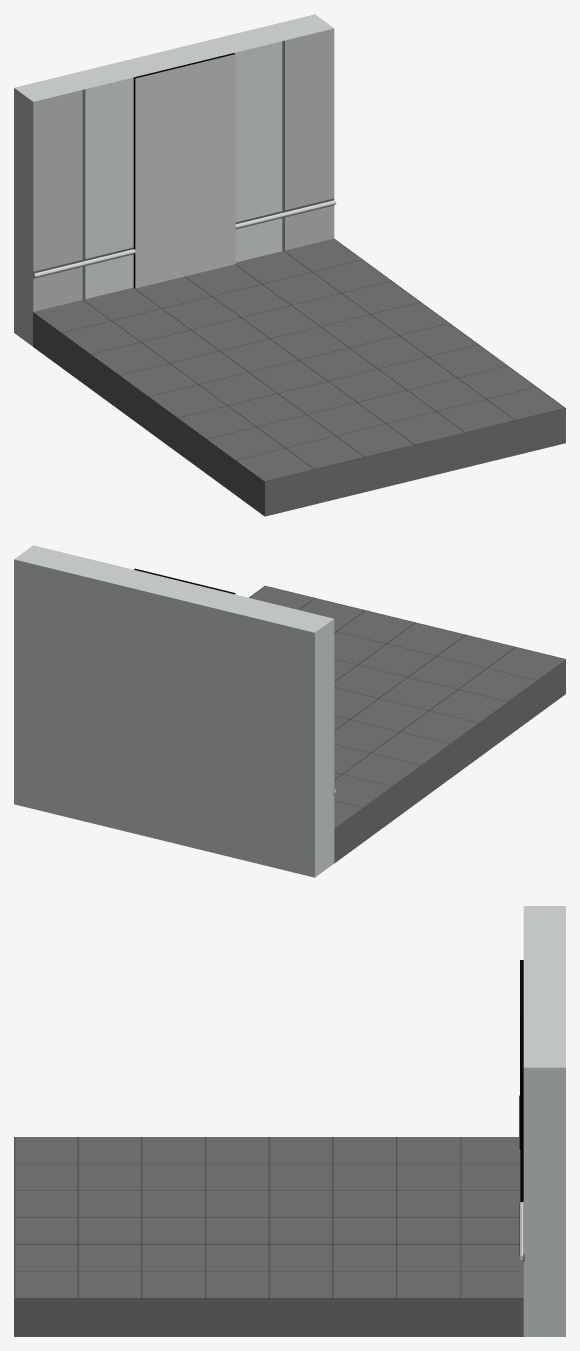
Rendered from Elevator.fbx.
3 views of the same model, one above another, from view 1: azimuth 30°, elevation 25°; view 2: azimuth 150°, elevation 25°; view 3: azimuth 270°, elevation 25° (orthographic). The views are drawn at different scales.
Visible parts, largest first — view 1: floor.002, wall, screen, pole, Cube; view 2: wall, floor.002; view 3: floor.002, wall, screen.
Boxes of the visible parts, left/top/right/bottom form: floor.002: left=33, top=238, right=565, bottom=516; wall: left=14, top=14, right=334, bottom=346; screen: left=133, top=53, right=235, bottom=288; pole: left=33, top=200, right=336, bottom=277; Cube: left=33, top=198, right=334, bottom=278; wall: left=14, top=545, right=334, bottom=877; floor.002: left=249, top=585, right=565, bottom=863; floor.002: left=14, top=1137, right=523, bottom=1336; wall: left=523, top=906, right=565, bottom=1336; screen: left=520, top=960, right=523, bottom=1202.
Bounding box in the file's own units: 1576 × 1225 × 2275.
